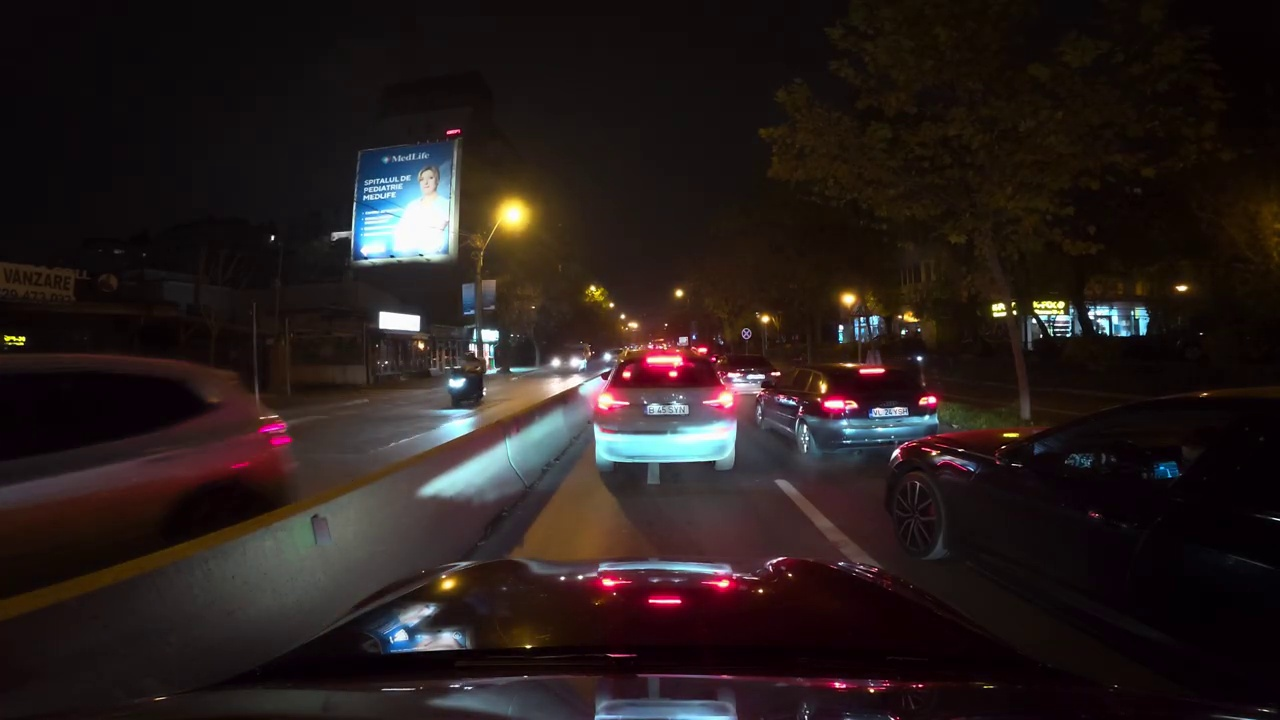acesa: (494, 198, 532, 235), (836, 289, 861, 312), (670, 284, 690, 304)
